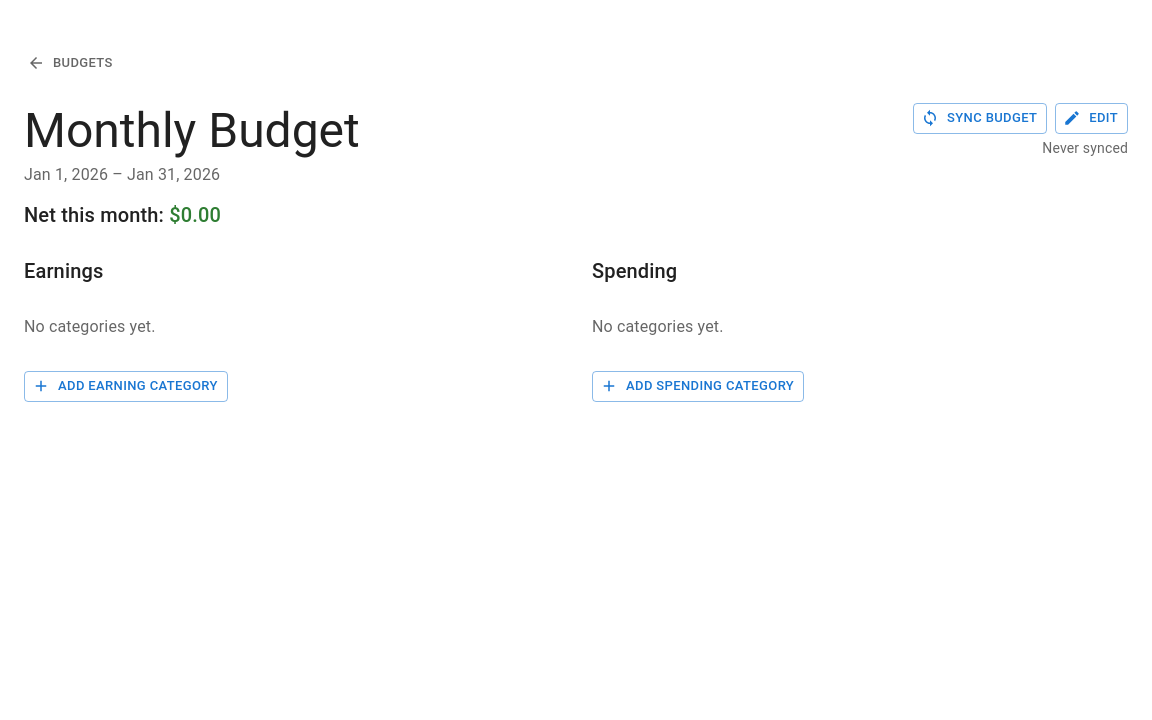
Scenario: BudgetDetailPage add category › opens CreateBudgetLineDialog scoped to earning when "Add earning category" is clicked
Expected: the heading "Monthly Budget" is shown, [24,103,360,159]
What coordinates should you click on to do the following:
click the button "Add earning category"
I would click on:
 (126, 386)
Its box is [24,371,228,402].
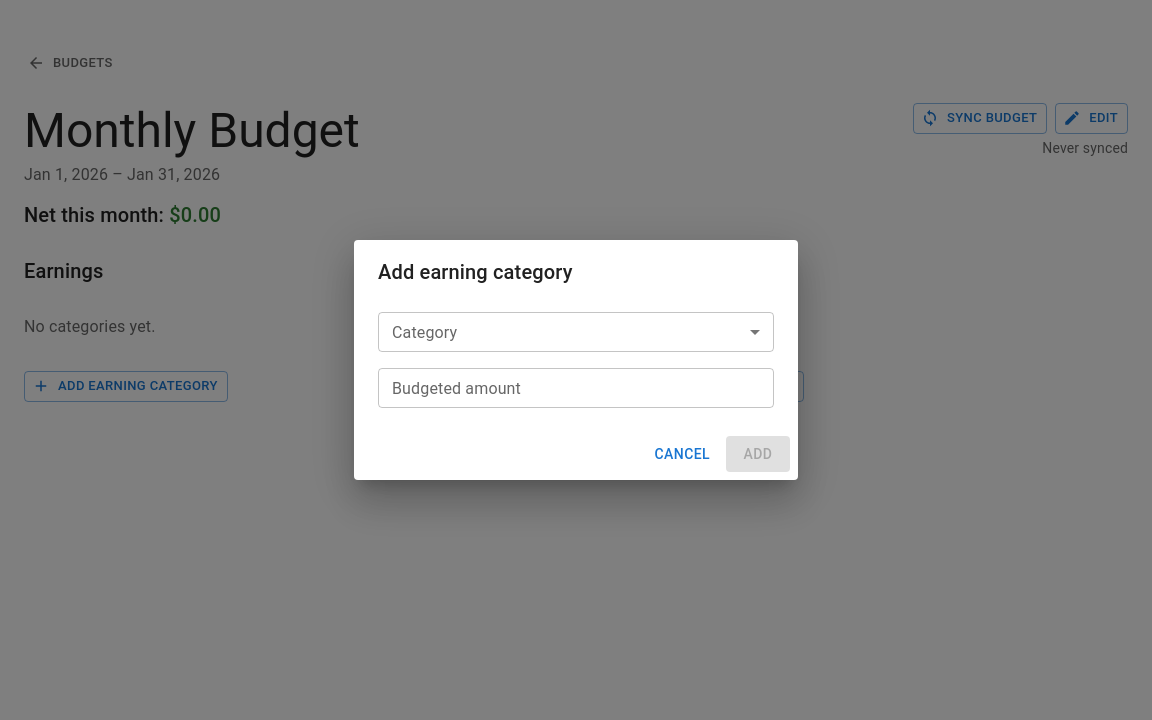
Expected: the heading "Add earning category" is shown, [378,260,573,284]
